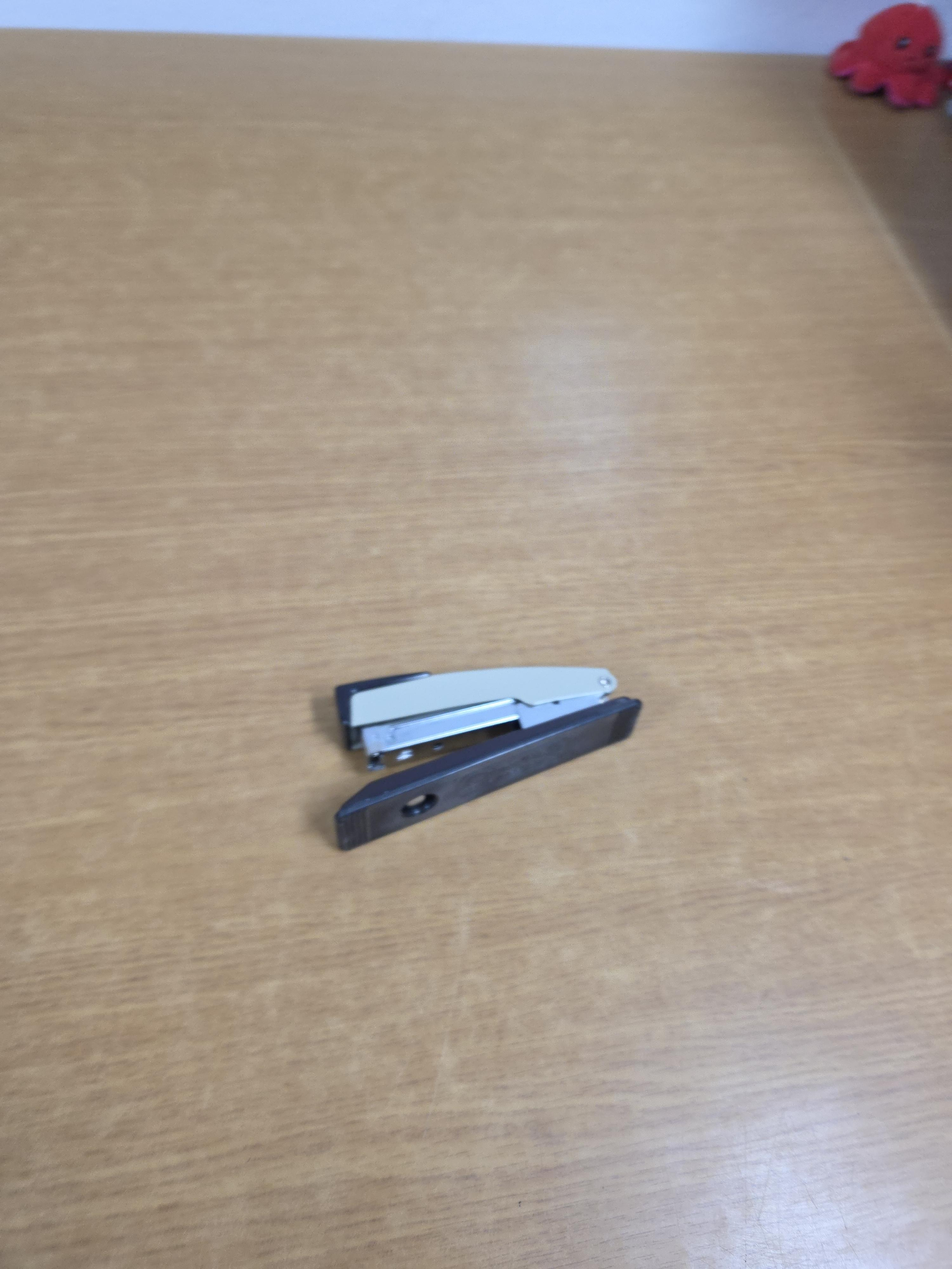stapler: (334, 666, 643, 851)
